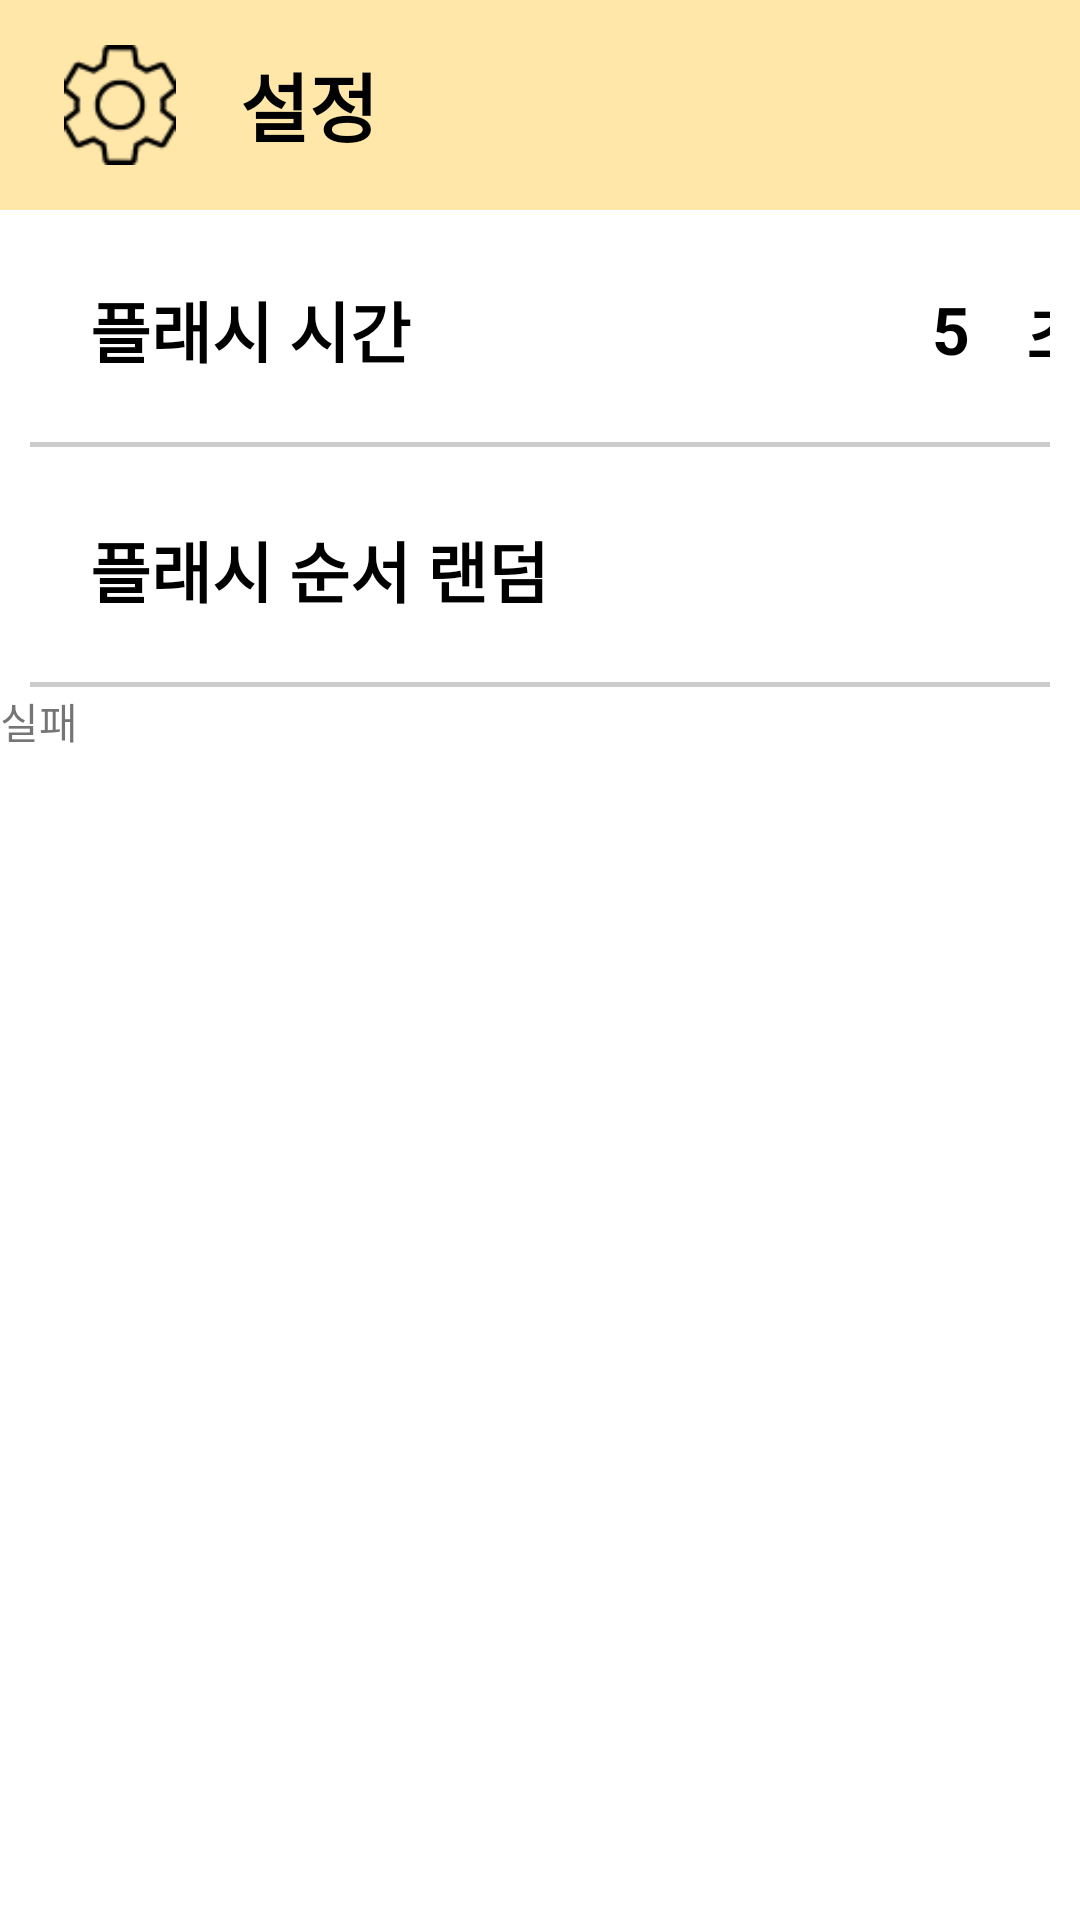

Icons on this 1080*1920 Android screen, each with its box as (x1, y1, x2, y2):
settin: (64, 45, 176, 165)
